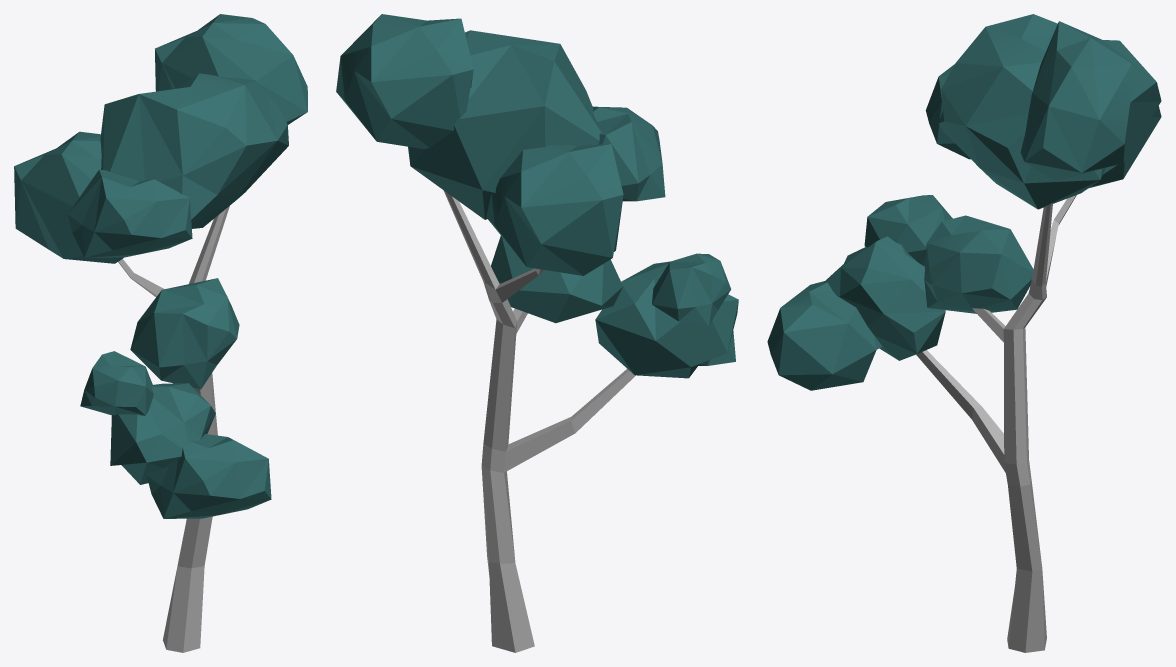
Rendered from fbTree4.fbx.
3 views of the same model, side by side, from view 1: azimuth 30°, elevation 25°; view 2: azimuth 150°, elevation 25°; view 3: azimuth 270°, elevation 25° (orthographic). The views are drawn at different scales.
Visible parts, largest first — view 1: fbTreeCedar1; view 2: fbTreeCedar1; view 3: fbTreeCedar1.
Boxes of the visible parts, bbox=[...] form: fbTreeCedar1: bbox=[14, 14, 307, 652]; fbTreeCedar1: bbox=[336, 14, 738, 652]; fbTreeCedar1: bbox=[767, 14, 1161, 652].
Bounding box in the file's own units: 165 × 323 × 180.
